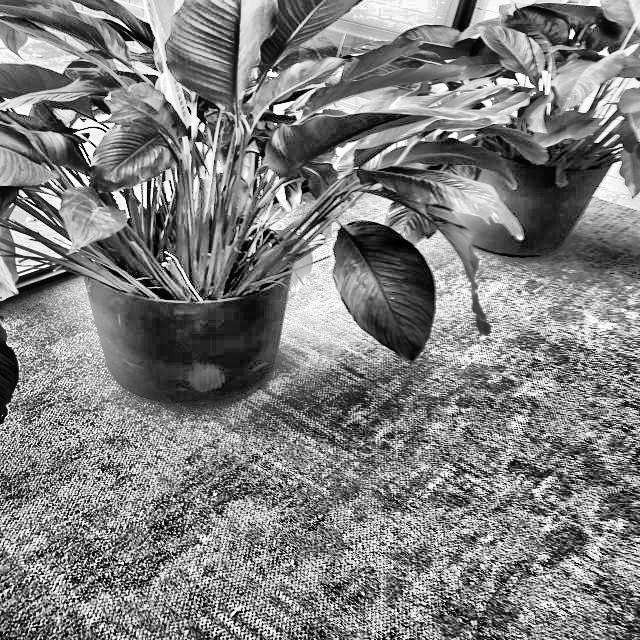plants: (0, 0, 410, 293), (486, 0, 640, 175)
